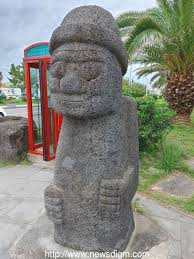Stone Statue: (30, 4, 154, 254)
